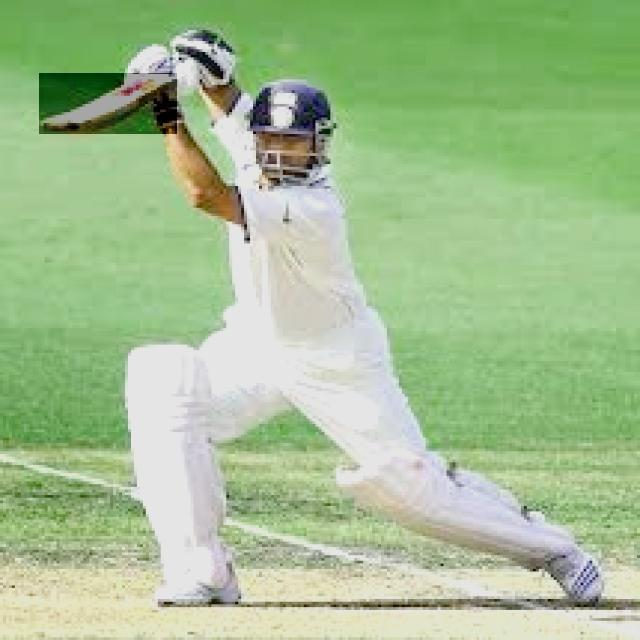bat: (41, 71, 178, 136)
toe: (38, 118, 86, 137)
